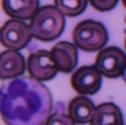N: (0, 78, 51, 124)
